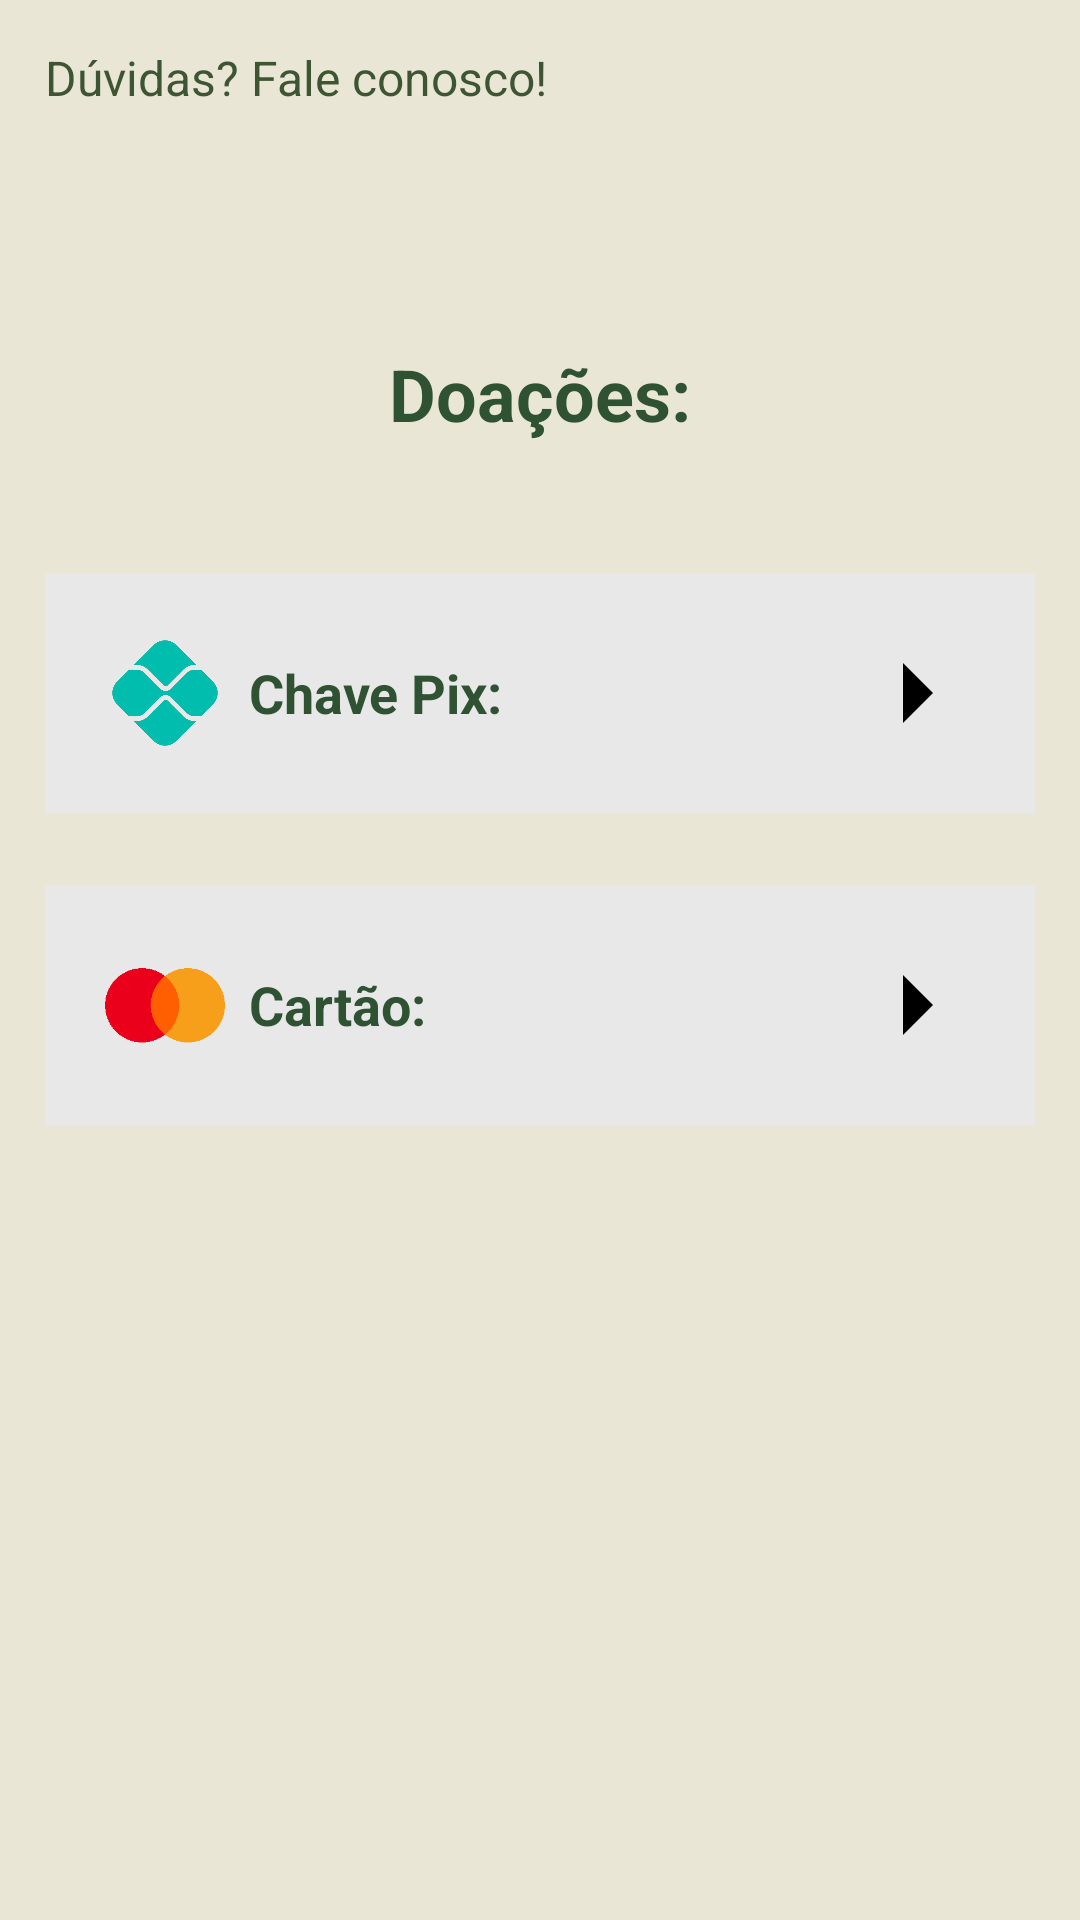

Named icons in this screenshot (1080 × 1920) and their bounding boxes, Rect(x1, y1, x2, y2):
Fechar seção de pix: Rect(903, 663, 933, 723)
